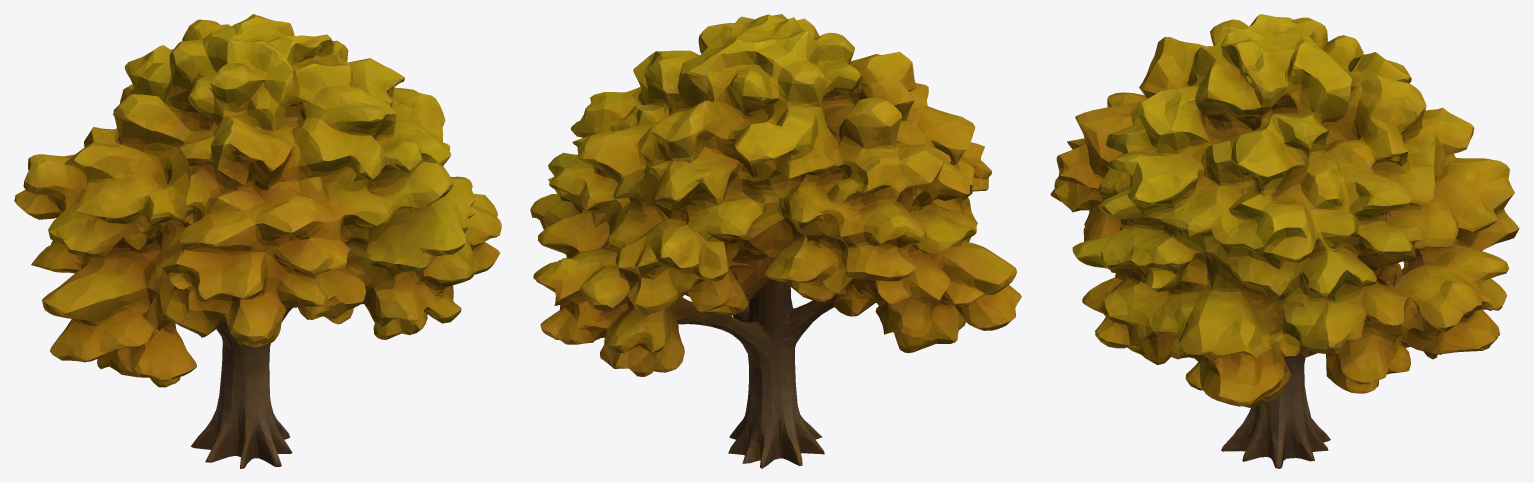
The model's file is tree 2.glb.
3 renders of one model, left to right at view 1: azimuth 30°, elevation 25°; view 2: azimuth 150°, elevation 25°; view 3: azimuth 270°, elevation 25°, orthographic.
Parts seen in each view (by area): view 1: world; view 2: world; view 3: world.
Boxes of the visible parts, bbox=[...] form: world: bbox=[14, 14, 501, 468]; world: bbox=[530, 14, 1021, 468]; world: bbox=[1050, 14, 1519, 468].
Bounding box in the file's own units: 0.9979 × 0.8996 × 0.9072.
Materials: 1 (1 with a texture image).
